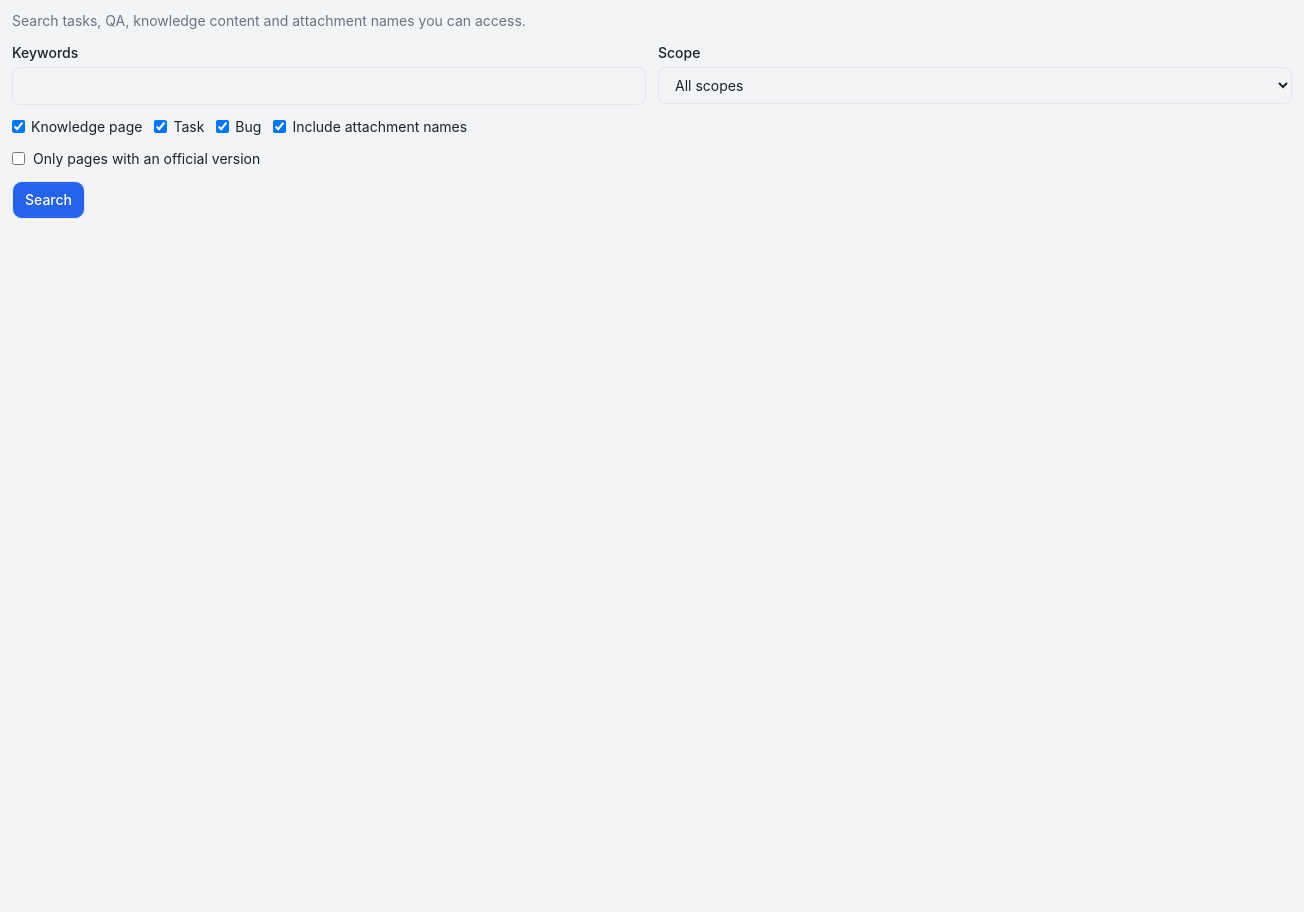
Test case: knowledge work review and privacy flows › shows the entire server page and follows the supplied next cursor
Click the button "Search". click: (48, 200)
box: 12,181 -> 85,219
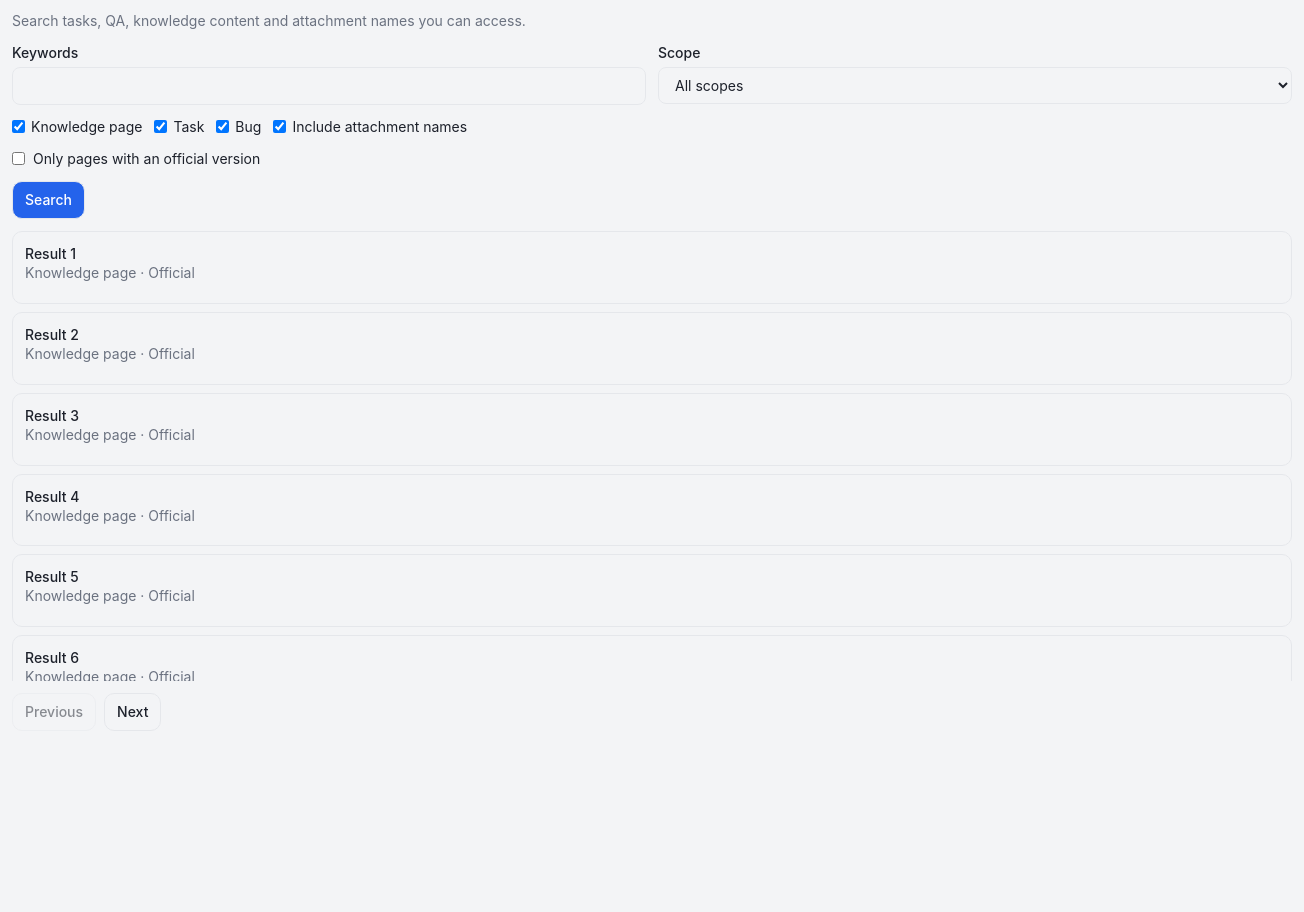
Click the button "Next". click: (133, 712)
box: 104,693 -> 161,731
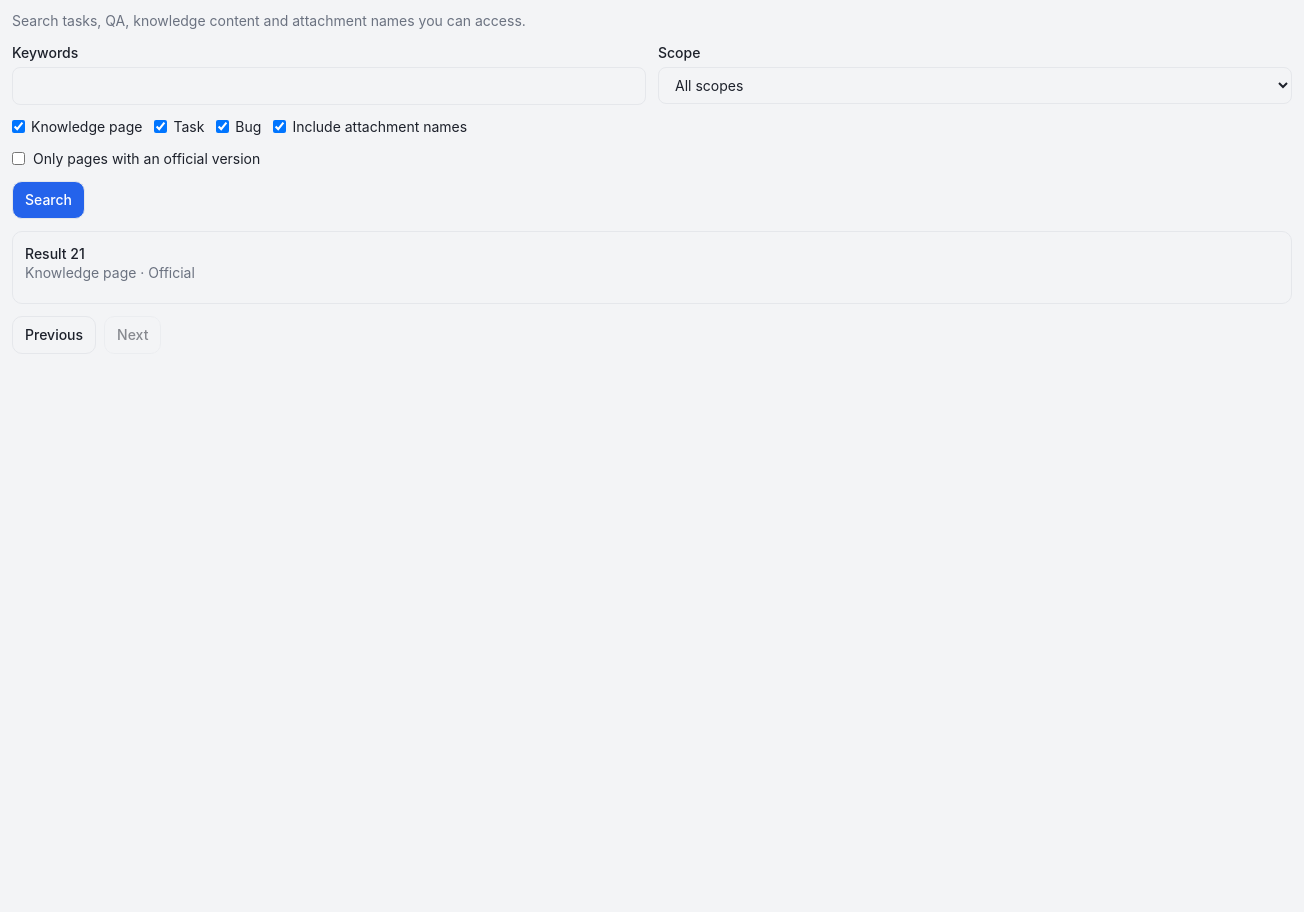
expect the text "Result 21" is shown: met, box 25,245 -> 85,262
